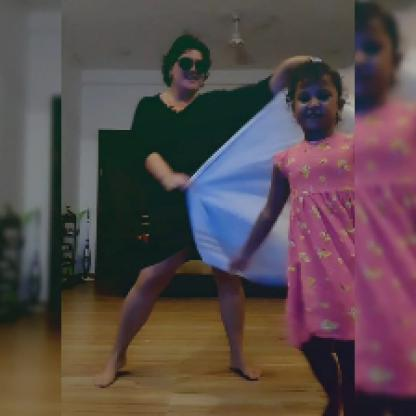child: (228, 61, 358, 416)
